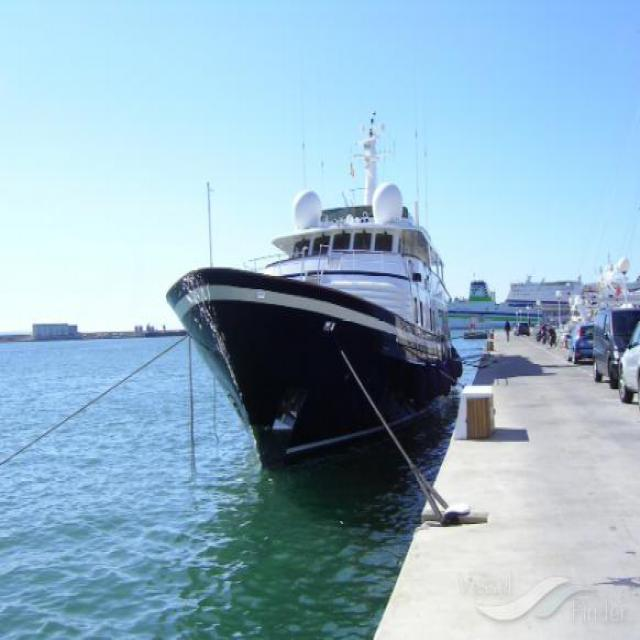Yacht: (163, 172, 460, 458)
